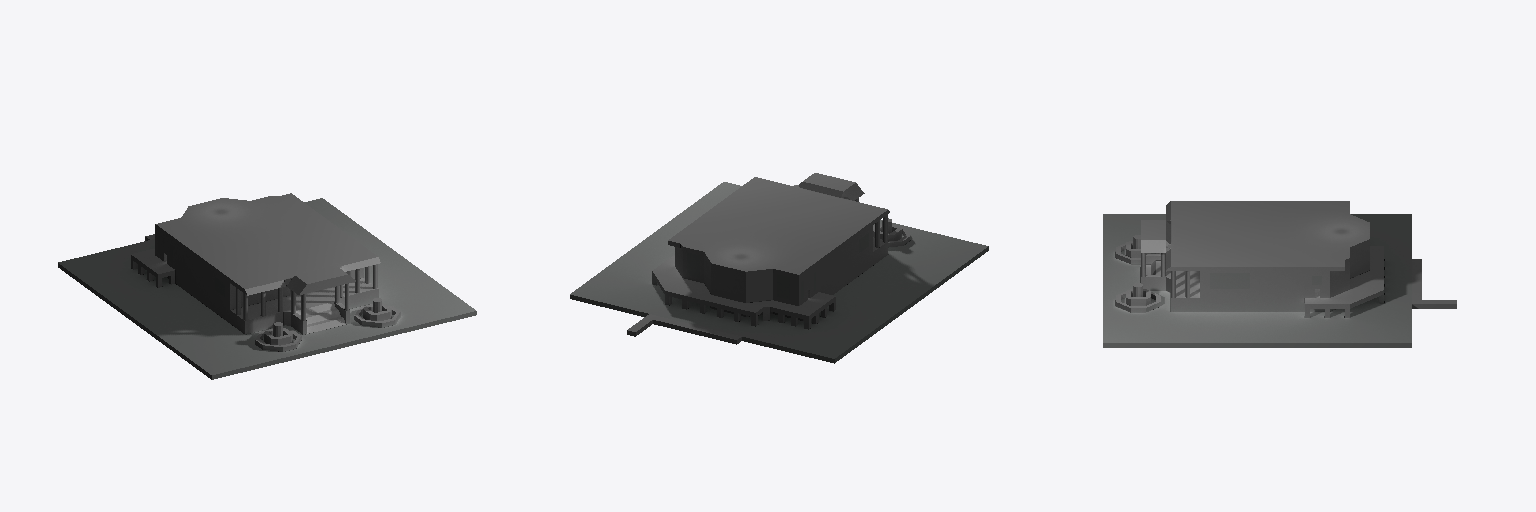
The picture shows the model from 3 angles: view 1: azimuth 30°, elevation 25°; view 2: azimuth 150°, elevation 25°; view 3: azimuth 270°, elevation 25°; orthographic projection.
Visible parts, largest first — view 1: mesh[number redacted]; view 2: mesh[number redacted]; view 3: mesh[number redacted].
Part boxes in pixels (bbox=[...]): mesh[number redacted]: bbox=[58, 193, 476, 379]; mesh[number redacted]: bbox=[570, 173, 988, 363]; mesh[number redacted]: bbox=[1103, 201, 1456, 347].
Size of the model in its own units: 1.23 by 0.24 by 1.42.
2 materials, 1 textured.